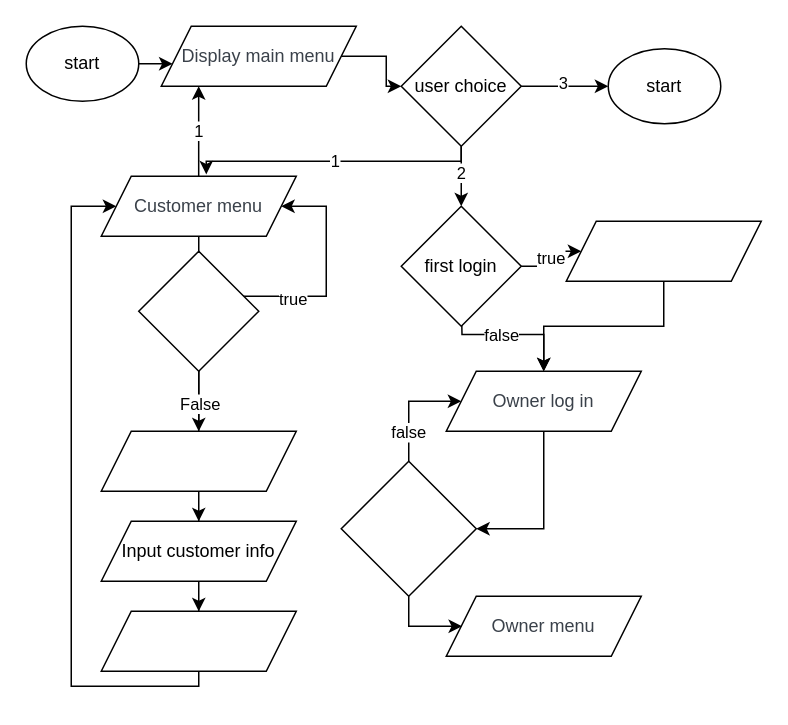
Some shapes in this 788 by 725 pixel diagram are drawn without their labels. Each missing label, with the centre of its shape:
Enter reservation date: point (198, 460)
is day full: point (198, 310)
Select vehicle type: point (198, 640)
Show cred: point (663, 250)
username & password: point (408, 528)
